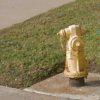Hydrant: (40, 10, 95, 87)
